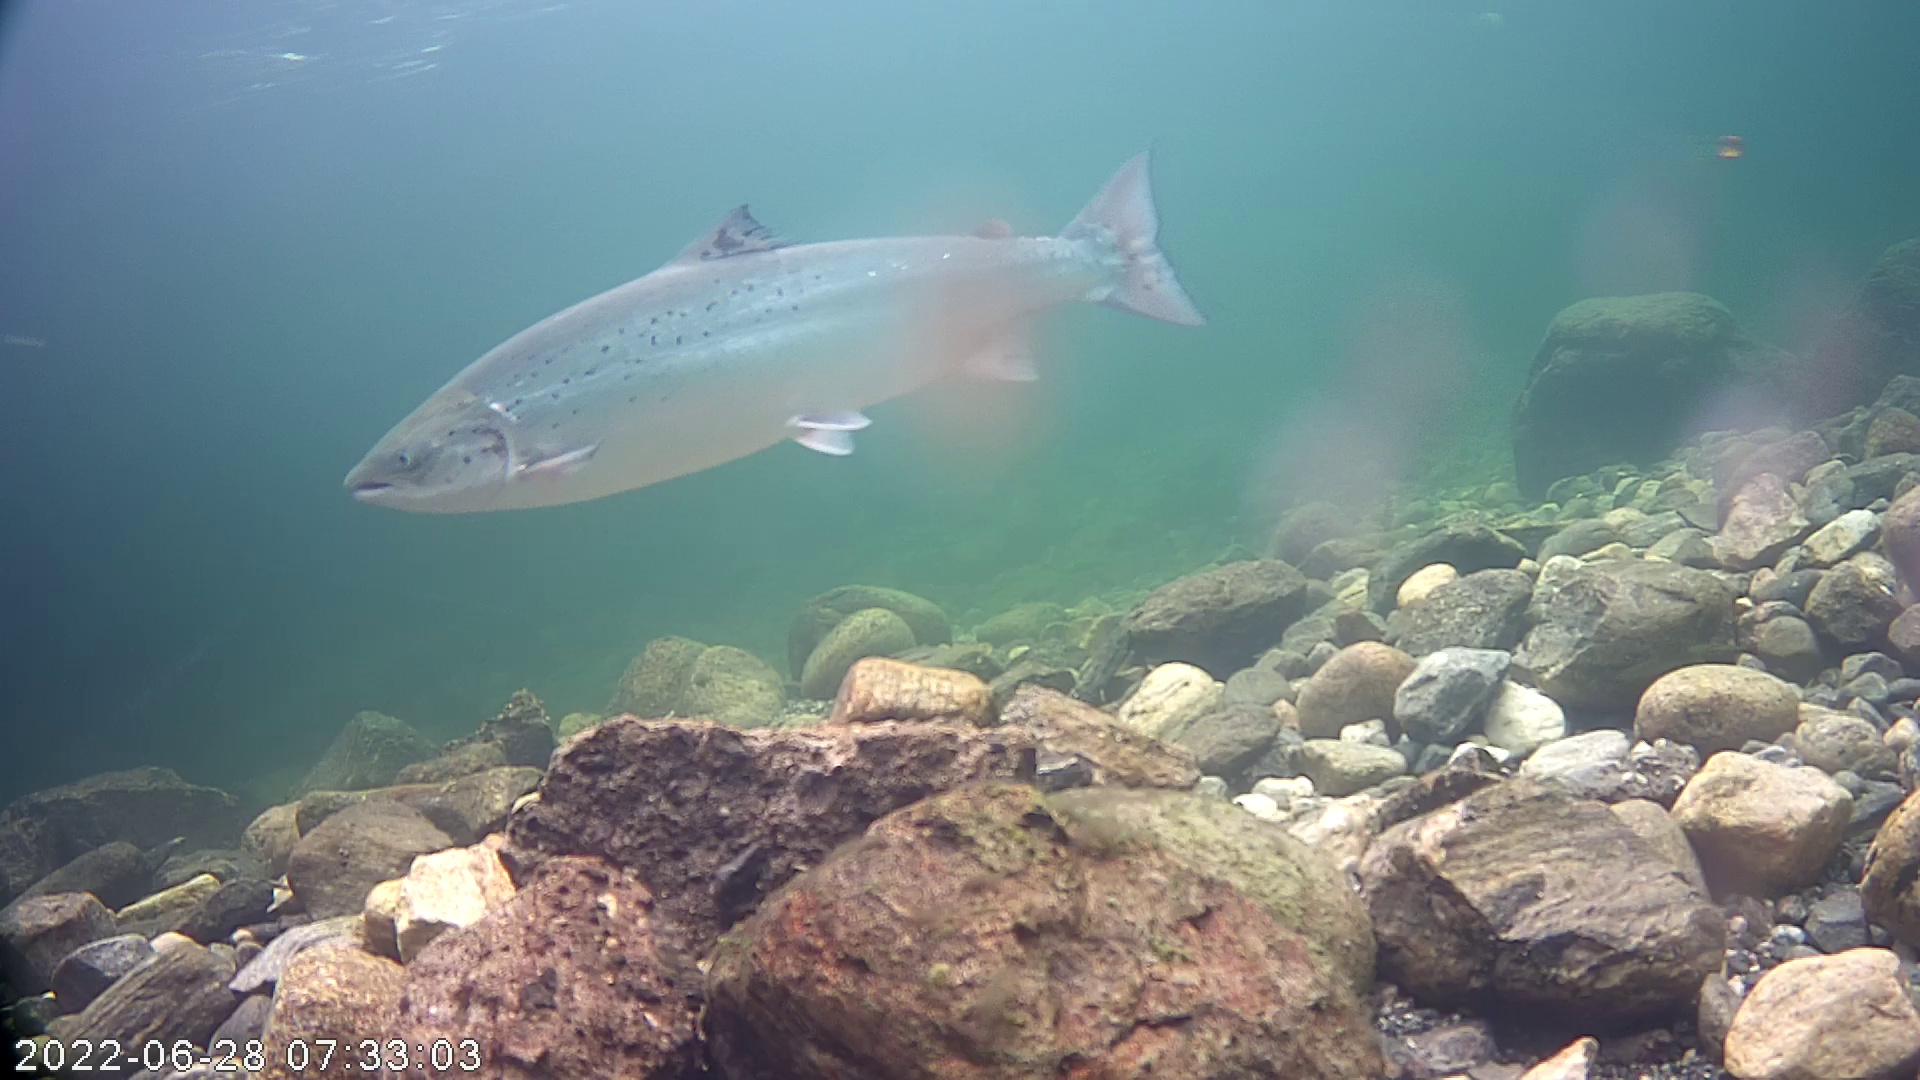salmon: (335, 113, 1230, 543)
